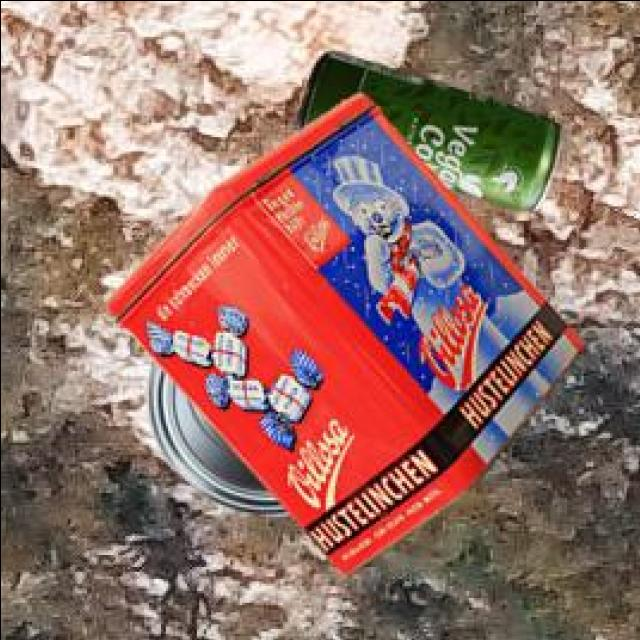logam: (111, 97, 589, 581), (300, 54, 565, 213), (152, 364, 291, 519)
